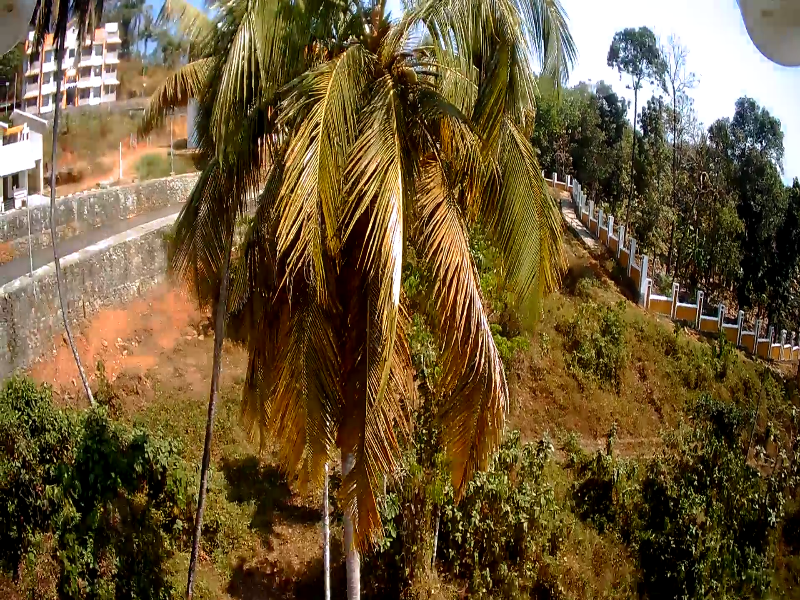coconut: (403, 66, 420, 84)
